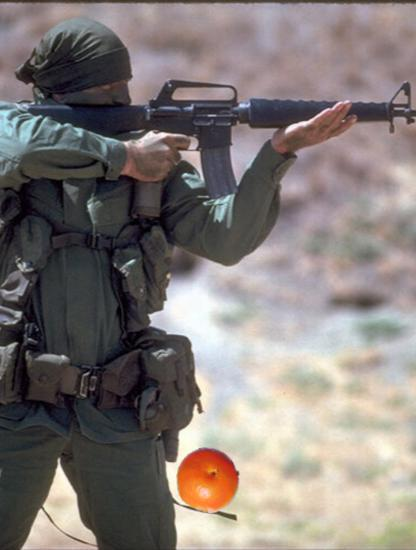Tangelo: (175, 447, 242, 514)
